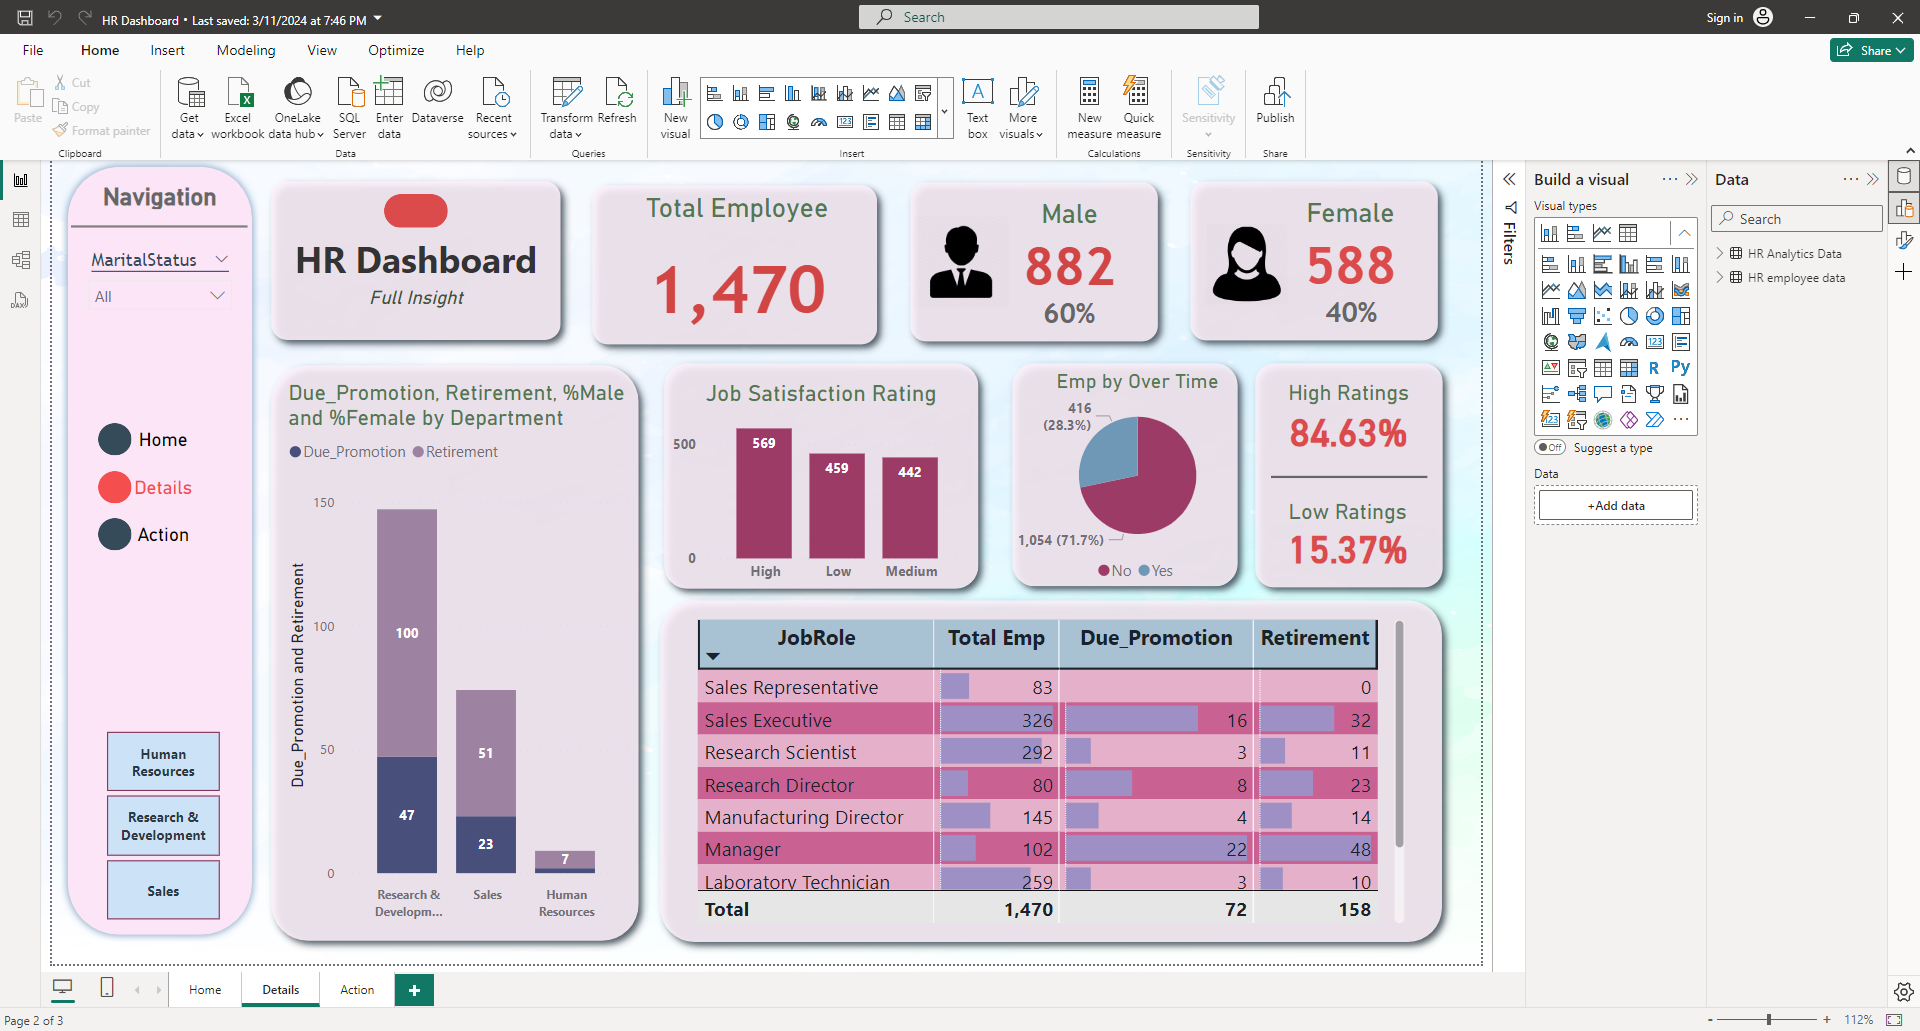

Layout of this report page (visuals, bound fields, positions):
{"tool":"powerbi","page":{"name":"Details","canvas":[1280,720],"ordinal":1},"visuals":[{"type":"shape","box":[8.3,0,177.1,699.9],"z":0,"group":"g5"},{"type":"group","id":"g1","title":"Group 2","box":[185.4,8.3,280.2,164.6],"z":0},{"type":"shape","box":[185.4,8.3,281.1,164.1],"z":0,"group":"g1"},{"type":"shape","box":[1008.2,8.3,243.7,164.6],"z":0,"group":"g4"},{"type":"shape","box":[757.2,9.4,243.7,164.6],"z":0,"group":"g3"},{"type":"shape","box":[472.8,11.5,277,164.6],"z":0,"group":"g2"},{"type":"shape","box":[537,171,303.2,223.8],"z":0,"group":"g7"},{"type":"shape","box":[1067,171,189.8,222.8],"z":0,"group":"g11"},{"type":"shape","box":[848.9,171.2,223.8,221.8],"z":0,"group":"g9"},{"type":"shape","box":[185.4,172.9,351,537.4],"z":0,"group":"g6"},{"type":"shape","box":[534,383,722,328],"z":0,"group":"g15"},{"type":"group","id":"g2","title":"Group 3","box":[472.8,11.5,277,164.6],"z":1000},{"type":"card","title":"Total Employee","fields":{"Values":["HR Analytics Data.Total Emp"]},"box":[485.3,28.2,256.2,138.5],"z":1000,"group":"g2"},{"type":"card","title":"Female","fields":{"Values":["HR Analytics Data.Total female_Emp"]},"box":[1092.6,33.3,140.6,89.6],"z":1000,"group":"g4"},{"type":"card","title":"Male","fields":{"Values":["HR Analytics Data.Total Male_Emp"]},"box":[840.5,34.4,140.6,89.6],"z":1000,"group":"g3"},{"type":"textbox","box":[197.4,60.8,257.9,55.5],"z":1000,"group":"g1"},{"type":"slicer","fields":{"Values":["HR Analytics Data.Department"]},"box":[23.9,505.1,151,182.3],"z":1000,"group":"g5"},{"type":"group","id":"g3","title":"Group 4","box":[757.2,9.4,243.7,164.6],"z":2000},{"type":"shape","box":[17.7,50,158.3,18.7],"z":2000,"group":"g5"},{"type":"image","box":[1028,50,84.4,86.4],"z":2000,"group":"g4"},{"type":"textbox","box":[197.4,108.2,257.9,28.7],"z":2000,"group":"g1"},{"type":"card","title":"Total Employee","fields":{"Values":["HR Analytics Data.%Male"]},"box":[848.9,116.7,123.9,41.7],"z":2000,"group":"g3"},{"type":"group","id":"g4","title":"Group 5","box":[1008.2,8.3,243.7,164.6],"z":3000},{"type":"shape","box":[297.7,30.3,57.3,30.4],"z":3000,"group":"g1"},{"type":"image","box":[765.5,44.8,96.9,92.7],"z":3000,"group":"g3"},{"type":"card","title":"Total Employee","fields":{"Values":["HR Analytics Data.%Female"]},"box":[1100.9,115.6,123.9,41.7],"z":3000,"group":"g4"},{"type":"actionButton","box":[34.3,230.2,131.2,39.6],"z":3000,"group":"g5"},{"type":"group","id":"g5","title":"Group 11","box":[8.3,0,177.1,699.9],"z":4000},{"type":"group","id":"g6","title":"Group 1","box":[185.4,172.9,351,537.4],"z":4000,"group":"g8"},{"type":"actionButton","box":[34.3,272.9,131.2,39.6],"z":4000,"group":"g5"},{"type":"group","id":"g7","title":"Group 8","box":[537,171,303.2,223.8],"z":5000,"group":"g10"},{"type":"group","id":"g8","title":"Group 6","box":[185.4,172.9,351,537.4],"z":5000},{"type":"actionButton","box":[34.3,315.6,131.2,39.6],"z":5000,"group":"g5"},{"type":"slicer","fields":{"Values":["HR Analytics Data.MaritalStatus"]},"box":[22.7,75.3,148.5,60.9],"z":6000},{"type":"group","id":"g9","title":"Group 9","box":[848.9,171.2,223.8,221.8],"z":6000,"group":"g12"},{"type":"shape","box":[41.6,235.4,30.2,29.2],"z":6000,"group":"g5"},{"type":"group","id":"g10","title":"Group 7","box":[537,171,303.2,223.8],"z":7000},{"type":"group","id":"g11","title":"Group 10","box":[1067,171,189.8,222.8],"z":7000,"group":"g13"},{"type":"shape","box":[41.6,278.1,30.2,29.2],"z":7000,"group":"g5"},{"type":"group","id":"g12","title":"Group 12","box":[848.9,171.2,246.5,221.8],"z":8000},{"type":"shape","box":[41.6,320.8,30.2,29.2],"z":8000,"group":"g5"},{"type":"group","id":"g13","title":"Group 13","box":[1067,171,189.8,222.8],"z":9000},{"type":"columnChart","fields":{"Category":["HR Analytics Data.Department"],"Y":["HR Analytics Data.Due_Promotion","HR Analytics Data.Retirement"]},"box":[207.3,197,315.6,491],"z":9000,"group":"g8"},{"type":"columnChart","title":"Job Satisfaction Rating","fields":{"Y":["HR Analytics Data.Total Emp"],"Category":["HR Analytics Data.Job Satisfection Rating"]},"box":[550.8,197,276.4,189.8],"z":10000,"group":"g10"},{"type":"group","id":"g14","title":"Group 14","box":[534,383,722,328],"z":10000},{"type":"pieChart","title":"Emp by Over Time","fields":{"Y":["HR Analytics Data.Total Emp"],"Category":["HR Analytics Data.OverTime"]},"box":[848.9,187.7,246.5,199.1],"z":11000,"group":"g12"},{"type":"group","id":"g15","title":"Group 10","box":[534,383,722,328],"z":12000,"group":"g14"},{"type":"tableEx","fields":{"Values":["HR Analytics Data.JobRole","HR Analytics Data.Total Emp","HR Analytics Data.Due_Promotion","HR Analytics Data.Retirement"]},"box":[572.4,406.4,643.6,281.6],"z":13000,"group":"g14"},{"type":"card","title":"High Ratings","fields":{"Values":["HR Analytics Data.%high_rating"]},"box":[1079.9,197,164,67],"z":14000,"group":"g13"},{"type":"card","title":"Low Ratings","fields":{"Values":["HR Analytics Data.%low_rating"]},"box":[1078.9,303.2,164,62.9],"z":15000,"group":"g13"},{"type":"shape","box":[1092.3,274.4,140.3,19.6],"z":16000,"group":"g13"}]}

Visuals, with their boxes on the page's 1280x720 design canvas (x1, y1, x2, y2). These are canvas units, not pixel positions in the 1920x1031 screenshot, which may show the page scaled, cropped or inside an application window:
shape: (8,0,185,700)
"Group 2" group: (185,8,466,173)
shape: (185,8,466,172)
shape: (1008,8,1252,173)
shape: (757,9,1001,174)
shape: (473,12,750,176)
shape: (537,171,840,395)
shape: (1067,171,1257,394)
shape: (849,171,1073,393)
shape: (185,173,536,710)
shape: (534,383,1256,711)
"Group 3" group: (473,12,750,176)
"Total Employee" card: (485,28,742,167)
"Female" card: (1093,33,1233,123)
"Male" card: (840,34,981,124)
textbox: (197,61,455,116)
slicer - HR Analytics Data.Department: (24,505,175,687)
"Group 4" group: (757,9,1001,174)
shape: (18,50,176,69)
image: (1028,50,1112,136)
textbox: (197,108,455,137)
"Total Employee" card: (849,117,973,158)
"Group 5" group: (1008,8,1252,173)
shape: (298,30,355,61)
image: (766,45,862,138)
"Total Employee" card: (1101,116,1225,157)
actionButton: (34,230,166,270)
"Group 11" group: (8,0,185,700)
"Group 1" group: (185,173,536,710)
actionButton: (34,273,166,312)
"Group 8" group: (537,171,840,395)
"Group 6" group: (185,173,536,710)
actionButton: (34,316,166,355)
slicer - HR Analytics Data.MaritalStatus: (23,75,171,136)
"Group 9" group: (849,171,1073,393)
shape: (42,235,72,265)
"Group 7" group: (537,171,840,395)
"Group 10" group: (1067,171,1257,394)
shape: (42,278,72,307)
"Group 12" group: (849,171,1095,393)
shape: (42,321,72,350)
"Group 13" group: (1067,171,1257,394)
columnChart - HR Analytics Data.Department x HR Analytics Data.Due_Promotion: (207,197,523,688)
"Job Satisfaction Rating" columnChart: (551,197,827,387)
"Group 14" group: (534,383,1256,711)
"Emp by Over Time" pieChart: (849,188,1095,387)
"Group 10" group: (534,383,1256,711)
tableEx - HR Analytics Data.JobRole x HR Analytics Data.Total Emp: (572,406,1216,688)
"High Ratings" card: (1080,197,1244,264)
"Low Ratings" card: (1079,303,1243,366)
shape: (1092,274,1233,294)
